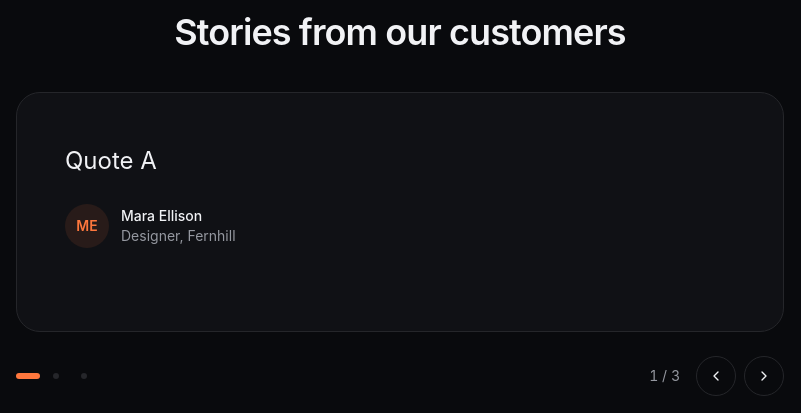
it: TestimonialCarousel › jumps with the dots and reports the index
Click the button named "Show testimonial 2": (56, 376) [44, 364, 68, 388]
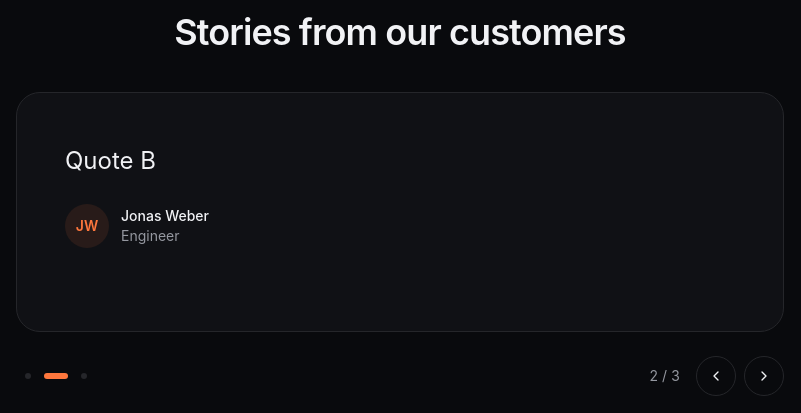
Expected: the text "Quote B" is shown, [65, 146, 156, 175]
